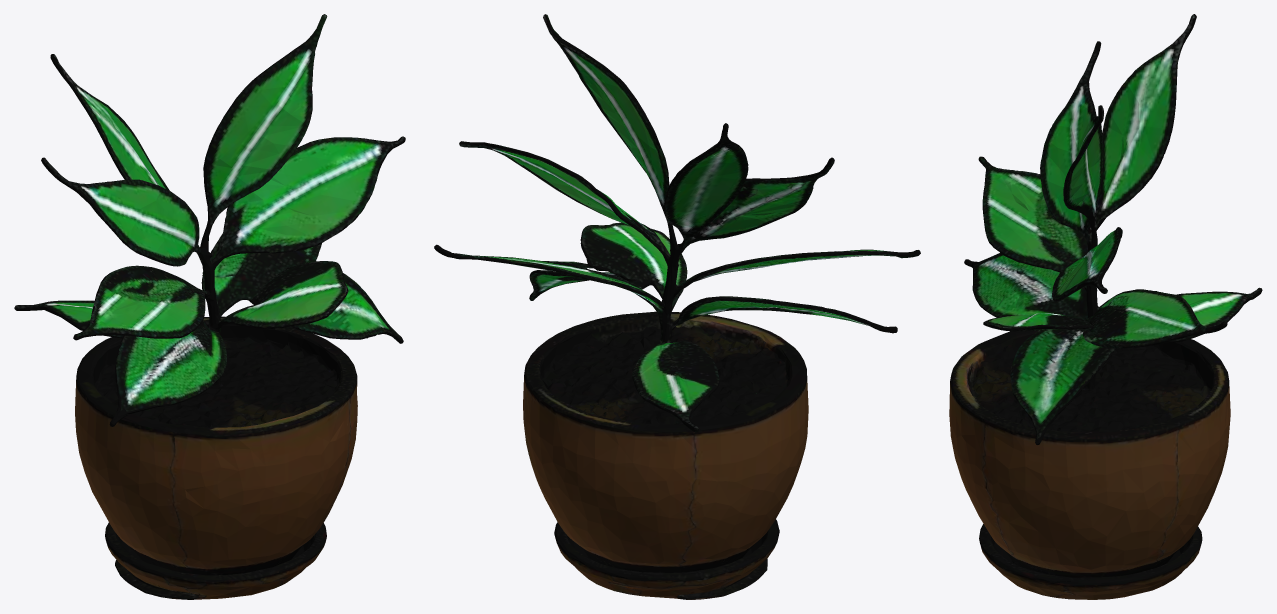
Rendered from growth-planter-b-generated-2026-04-18t01-36-15-986z-texture-wrap-2026-04-18T01-38-19-536Z.low.glb.
3 views of the same model, side by side, from view 1: azimuth 30°, elevation 25°; view 2: azimuth 150°, elevation 25°; view 3: azimuth 270°, elevation 25° (orthographic).
Visible parts, largest first — view 1: temp_mesh.ply; view 2: temp_mesh.ply; view 3: temp_mesh.ply.
Part boxes in pixels (left/top/right/bottom): temp_mesh.ply: left=14, top=14, right=405, bottom=599; temp_mesh.ply: left=434, top=14, right=920, bottom=599; temp_mesh.ply: left=949, top=14, right=1262, bottom=599.
Bounding box in the file's own units: 1.57 × 1.97 × 1.08.
Materials: 1 (1 with a texture image).
